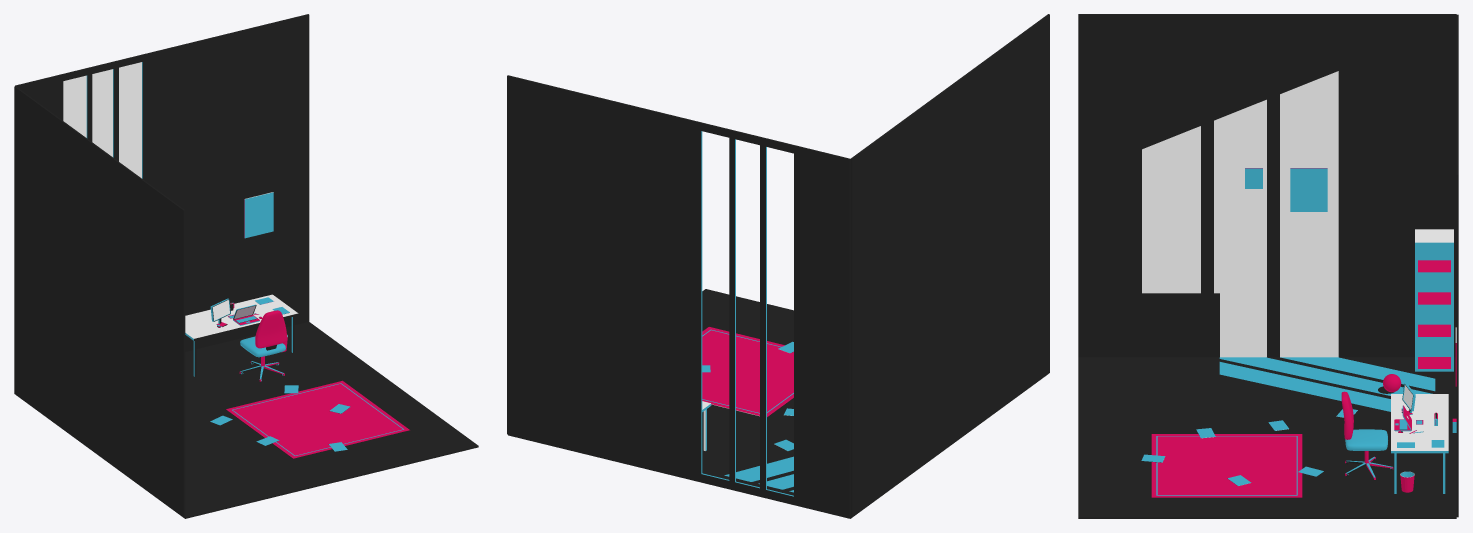
File: room.glb
The picture shows the model from 3 angles, left to right: view 1: azimuth 30°, elevation 25°; view 2: azimuth 150°, elevation 25°; view 3: azimuth 270°, elevation 25°; orthographic projection. The views are drawn at different scales.
Parts seen in each view (by area): view 1: Cube.004, Cube, Plane, Circle, Plane.003, Plane.008; view 2: Cube.004, Cube; view 3: Cube.004, Cube, Cube.011, Plane, Plane.003, Circle, Plane.008.
Boxes of the visible parts, box(x1,y1,x2,y2) form: Cube.004: box(14, 14, 478, 518); Cube: box(226, 380, 410, 458); Plane: box(185, 294, 298, 340); Circle: box(239, 310, 286, 381); Plane.003: box(244, 192, 273, 238); Plane.008: box(210, 385, 350, 451); Cube.004: box(507, 14, 1049, 518); Cube: box(702, 327, 793, 417); Cube.004: box(1078, 14, 1458, 518); Cube: box(1151, 434, 1302, 497); Cube.011: box(1415, 229, 1453, 371); Plane: box(1391, 394, 1448, 453); Plane.003: box(1245, 168, 1456, 386); Circle: box(1341, 391, 1393, 480); Plane.008: box(1141, 409, 1357, 486).
Bounding box in the file's own units: 15.08 × 15.08 × 15.08.
1 material, 1 textured.
